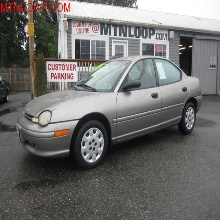no damage: (16, 54, 202, 169)
